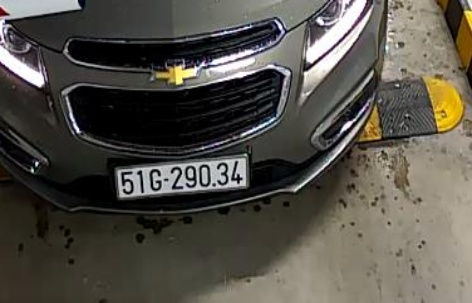plate: (111, 153, 254, 202)
